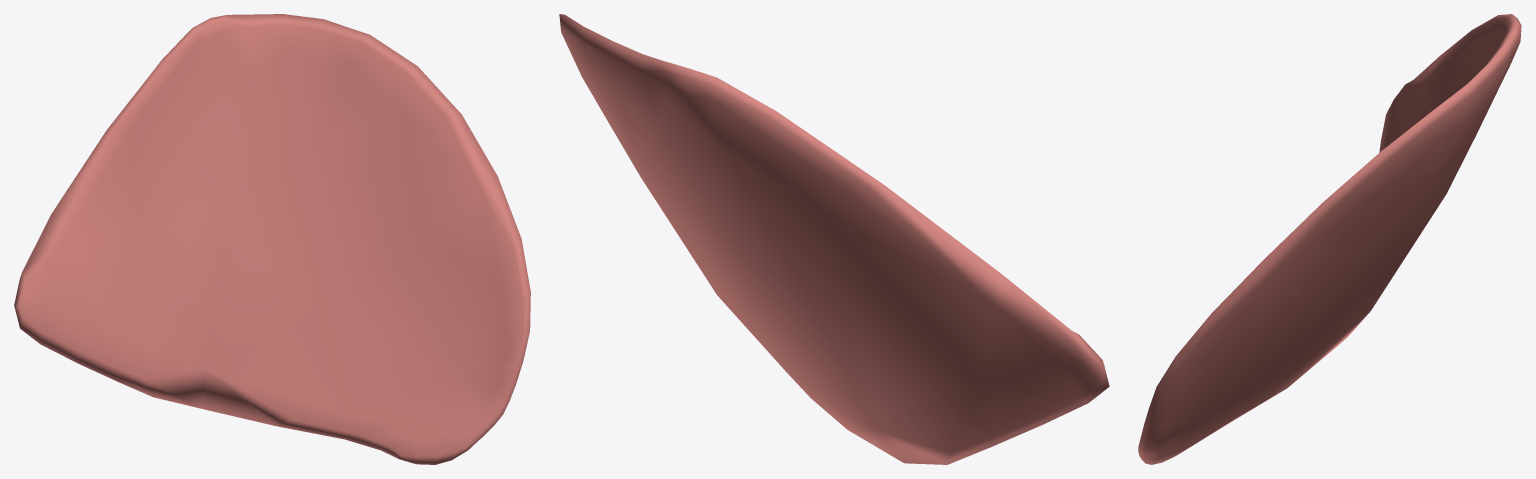
3 views of the same model, side by side, from view 1: azimuth 30°, elevation 25°; view 2: azimuth 150°, elevation 25°; view 3: azimuth 270°, elevation 25° (orthographic). The views are drawn at different scales.
Visible parts, largest first — view 1: ZA_598a4e4d569b7ed6; view 2: ZA_598a4e4d569b7ed6; view 3: ZA_598a4e4d569b7ed6.
Boxes of the visible parts, bbox=[...] form: ZA_598a4e4d569b7ed6: bbox=[14, 14, 530, 464]; ZA_598a4e4d569b7ed6: bbox=[559, 14, 1109, 464]; ZA_598a4e4d569b7ed6: bbox=[1138, 14, 1521, 464].
Bounding box in the file's own units: 0.0159 × 0.0125 × 0.0108.
